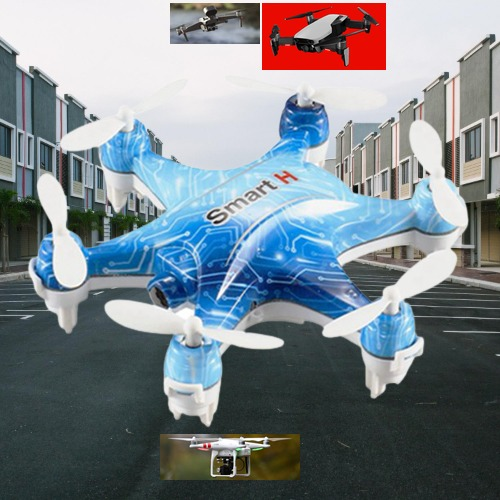drone: (27, 81, 468, 426), (262, 3, 386, 70), (160, 434, 300, 480), (170, 3, 260, 44)
